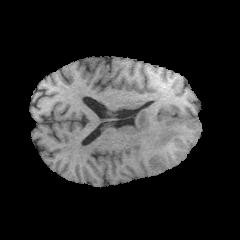glioma: (126, 99, 192, 167)
